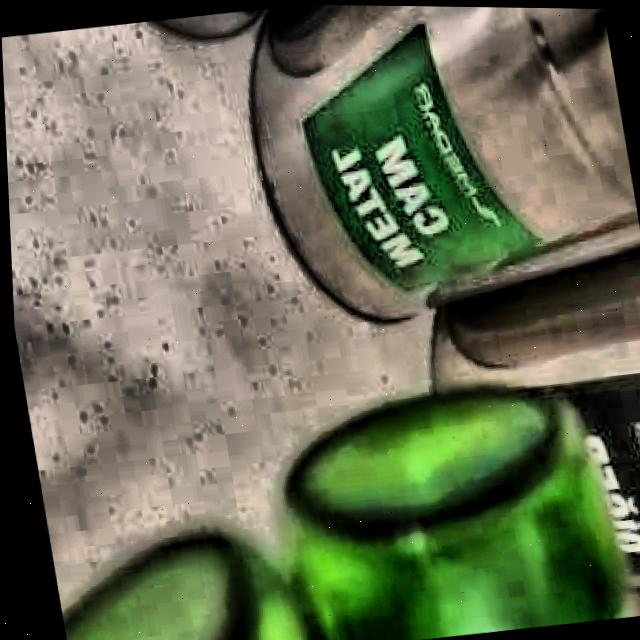glass: (56, 389, 625, 640)
